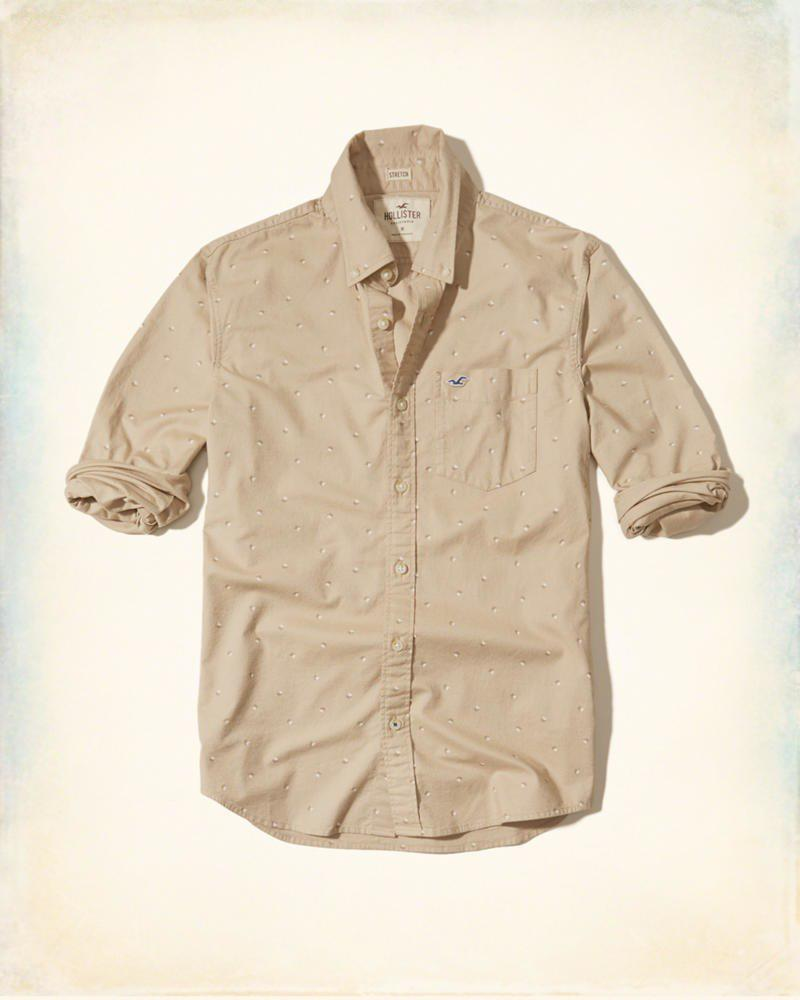teeshirt: (65, 121, 721, 859)
